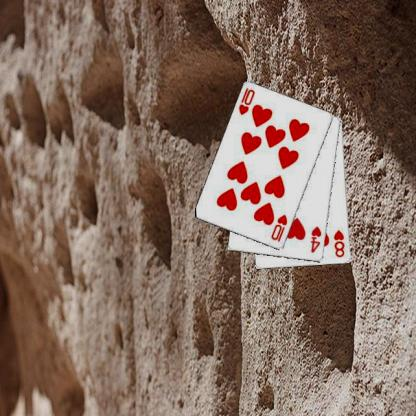10H: (268, 212, 289, 243), (236, 86, 256, 116)
4H: (308, 224, 322, 254)
8H: (331, 228, 346, 258)
